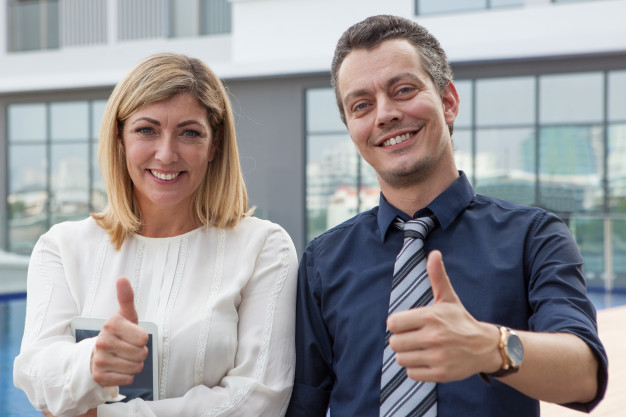thumbsup: (386, 250, 458, 383), (92, 277, 149, 387)
